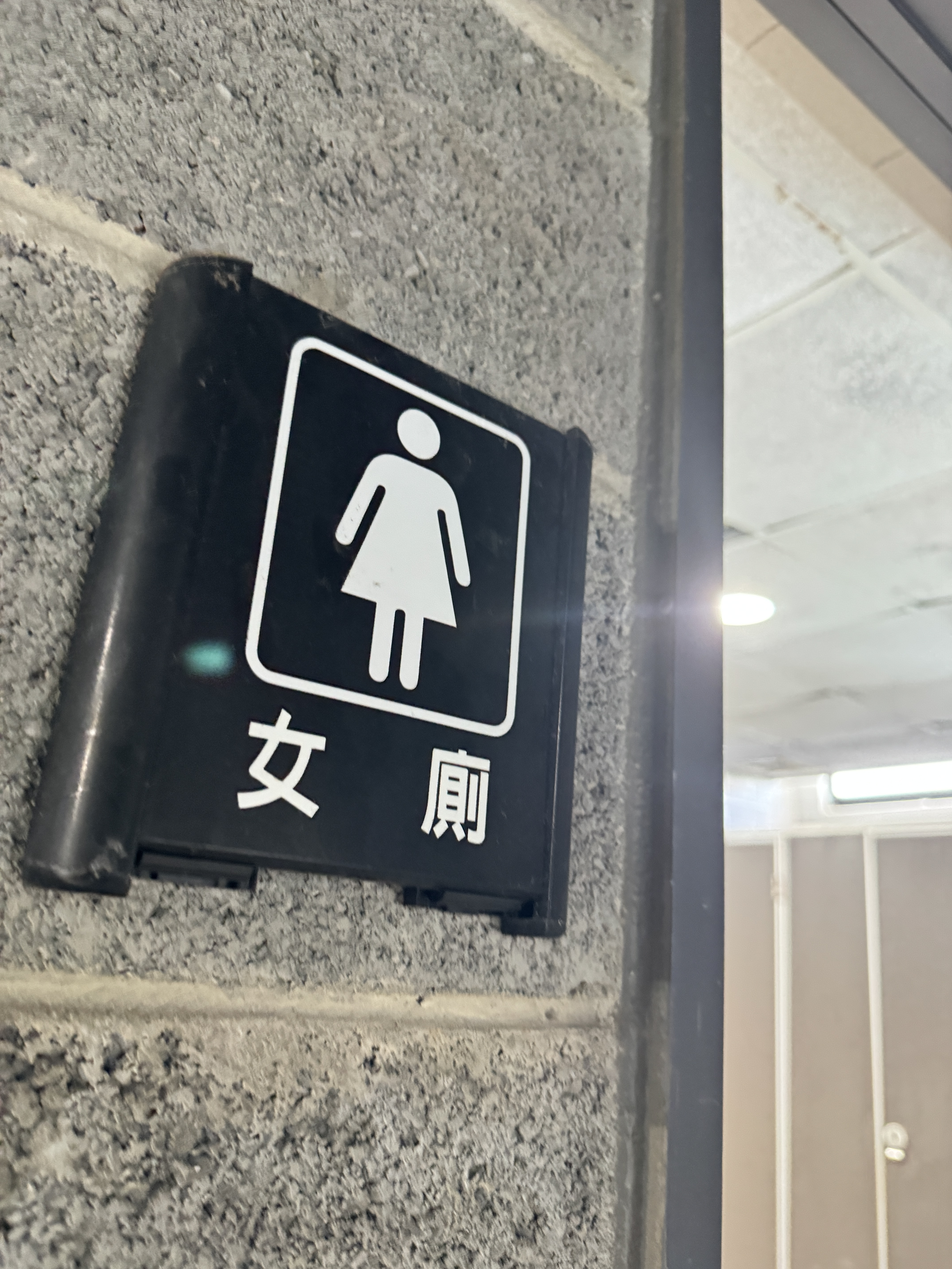toilet_sign: (16, 230, 607, 952), (58, 231, 614, 972)
